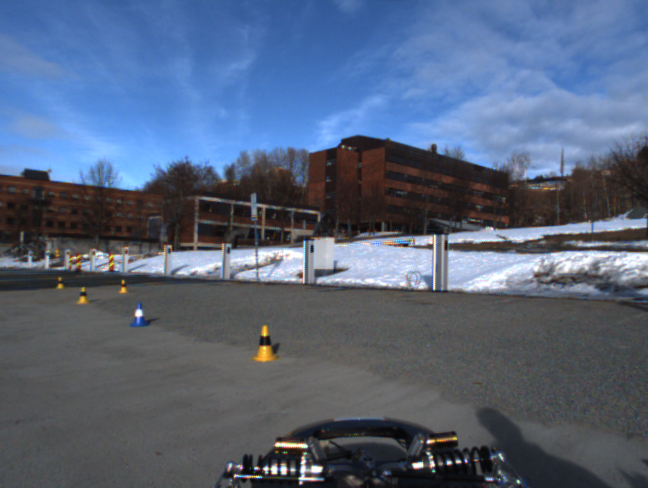cone-small-blue: (129, 302, 148, 328)
cone-small-yellow: (249, 324, 280, 362), (76, 286, 91, 305), (117, 279, 128, 294), (55, 276, 65, 289)
